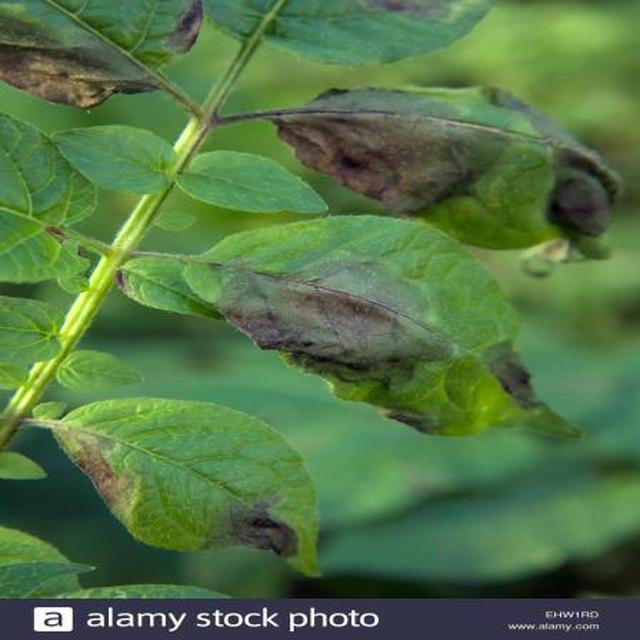Late Blight Leaf: (273, 247, 640, 640)
